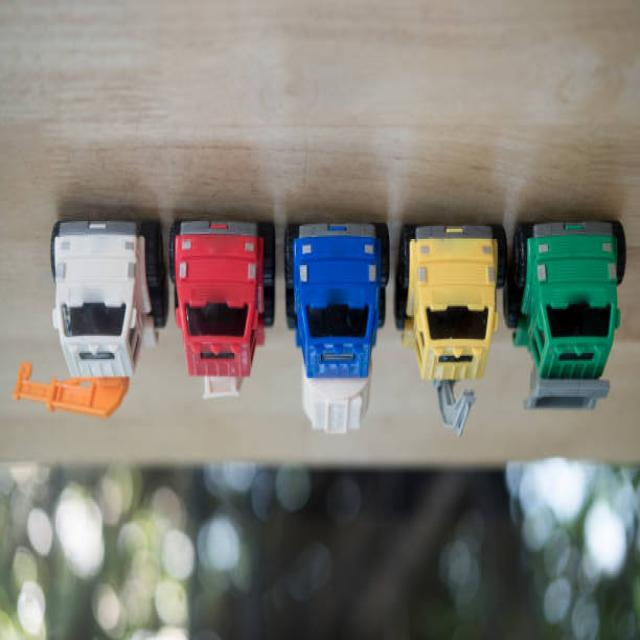Car: (14, 221, 167, 419), (395, 227, 505, 435), (503, 223, 625, 409), (284, 223, 389, 433), (170, 223, 274, 398)
